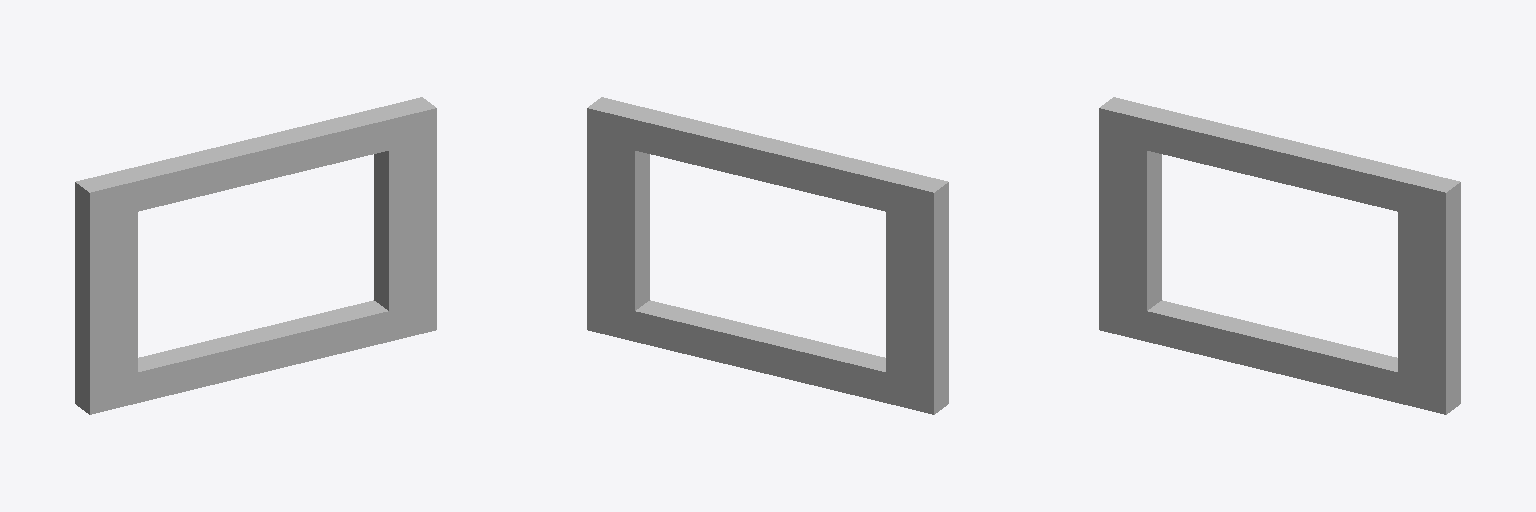
Rendered from Exit2.OBJ.
3 renders of one model, left to right at view 1: azimuth 30°, elevation 25°; view 2: azimuth 150°, elevation 25°; view 3: azimuth 330°, elevation 25°, orthographic.
Parts seen in each view (by area): view 1: /ambf/env/Exit2_Exit2_Cube.007; view 2: /ambf/env/Exit2_Exit2_Cube.007; view 3: /ambf/env/Exit2_Exit2_Cube.007.
Part boxes in pixels (x1,y1,x2,y2): /ambf/env/Exit2_Exit2_Cube.007: (75,97,436,414); /ambf/env/Exit2_Exit2_Cube.007: (587,97,948,414); /ambf/env/Exit2_Exit2_Cube.007: (1099,97,1460,414).
Size of the model in its own units: 0.0059 by 0.0036 by 0.0004.